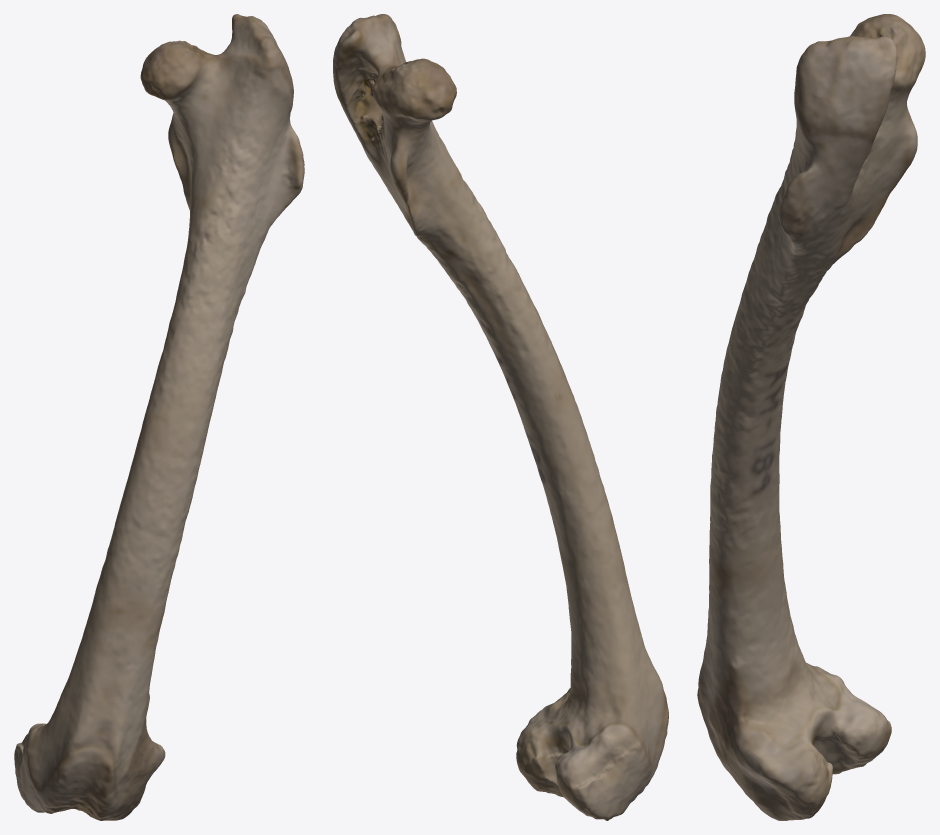
File: 9-tulang.glb
3 renders of one model, left to right at view 1: azimuth 30°, elevation 25°; view 2: azimuth 150°, elevation 25°; view 3: azimuth 270°, elevation 25°, orthographic. The views are drawn at different scales.
Parts seen in each view (by area): view 1: Object_2, Object_3; view 2: Object_2, Object_3; view 3: Object_2, Object_3.
Boxes of the visible parts, left/top/right/bottom form: Object_2: left=46, top=14, right=304, bottom=784; Object_3: left=14, top=143, right=292, bottom=820; Object_2: left=333, top=14, right=668, bottom=797; Object_3: left=361, top=94, right=668, bottom=820; Object_2: left=697, top=14, right=925, bottom=820; Object_3: left=698, top=165, right=909, bottom=820.
Size of the model in its own units: 0.0304 by 0.0777 by 0.0183.
